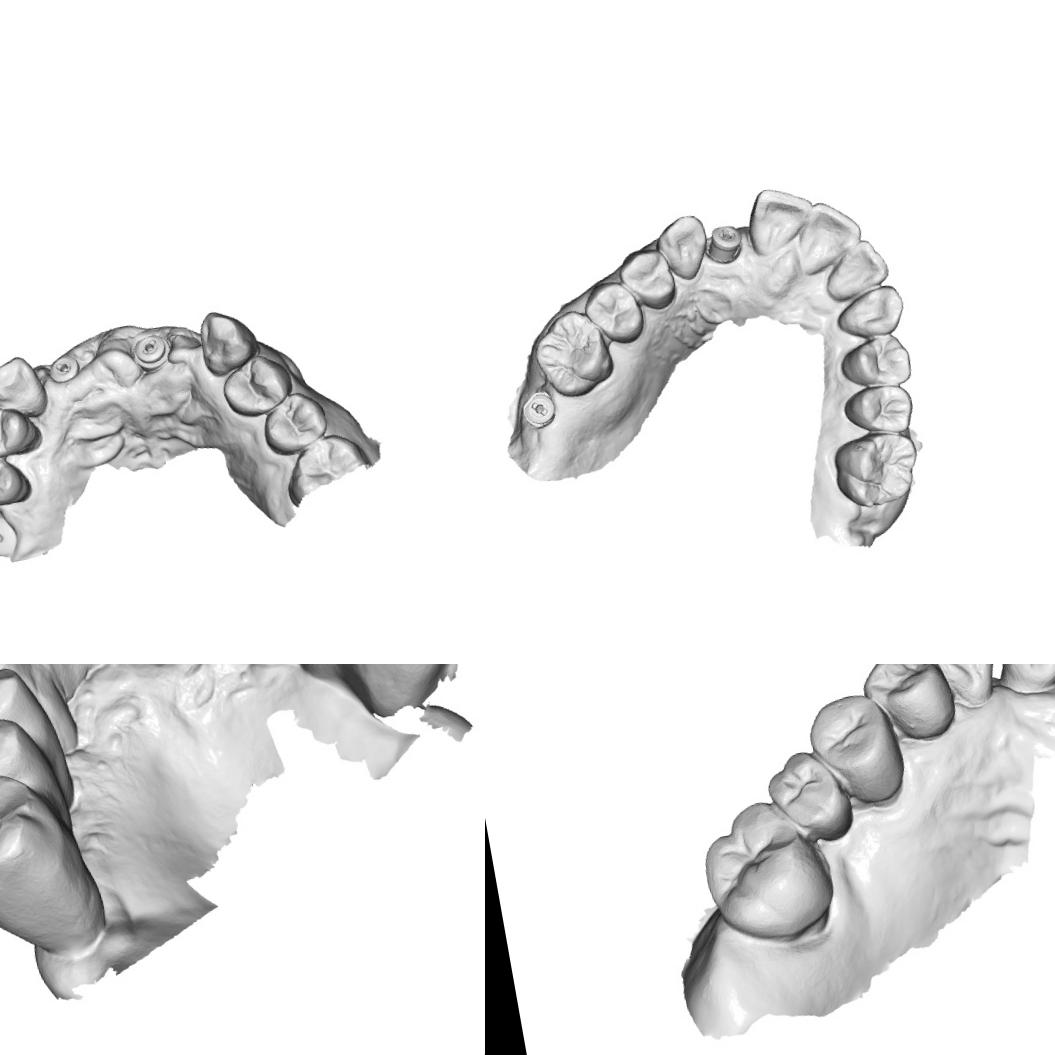canine: (193, 301, 264, 379), (830, 280, 910, 344), (651, 211, 713, 285), (921, 664, 1005, 715), (0, 348, 50, 423)
implant: (0, 513, 22, 561)
implant_minus: (509, 376, 573, 442), (126, 328, 176, 378), (703, 220, 748, 268), (44, 350, 84, 386)
incisor: (786, 194, 866, 276), (740, 179, 820, 259), (818, 234, 892, 303)
molar: (690, 788, 840, 954), (0, 759, 87, 915), (757, 739, 853, 847), (527, 305, 618, 402), (827, 424, 925, 512)
premolar: (801, 681, 910, 812), (854, 664, 964, 750), (215, 346, 297, 422), (255, 385, 332, 459), (834, 330, 914, 396), (580, 275, 648, 350), (839, 379, 917, 441), (614, 243, 680, 316), (0, 713, 40, 799), (0, 395, 44, 463), (0, 444, 34, 513), (0, 664, 31, 738)
